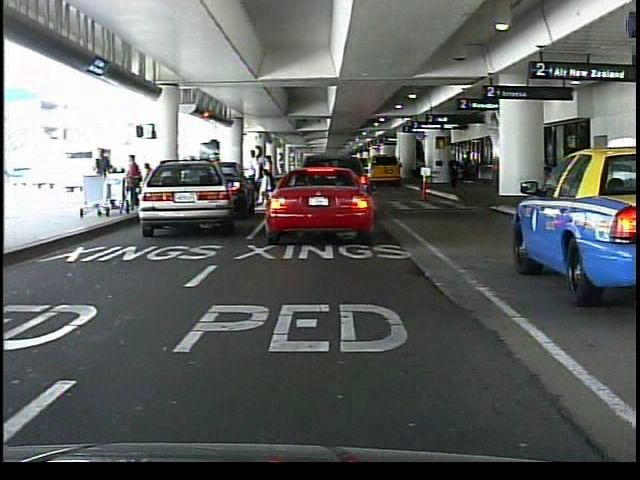person: (204, 150, 226, 204), (95, 148, 114, 206), (247, 148, 264, 205), (317, 153, 334, 205), (448, 153, 461, 190)
